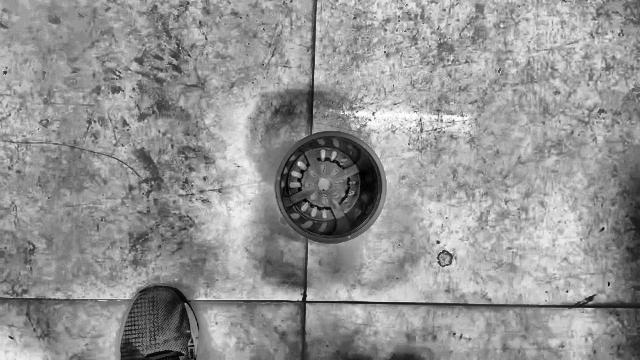pot: (275, 132, 386, 243)
